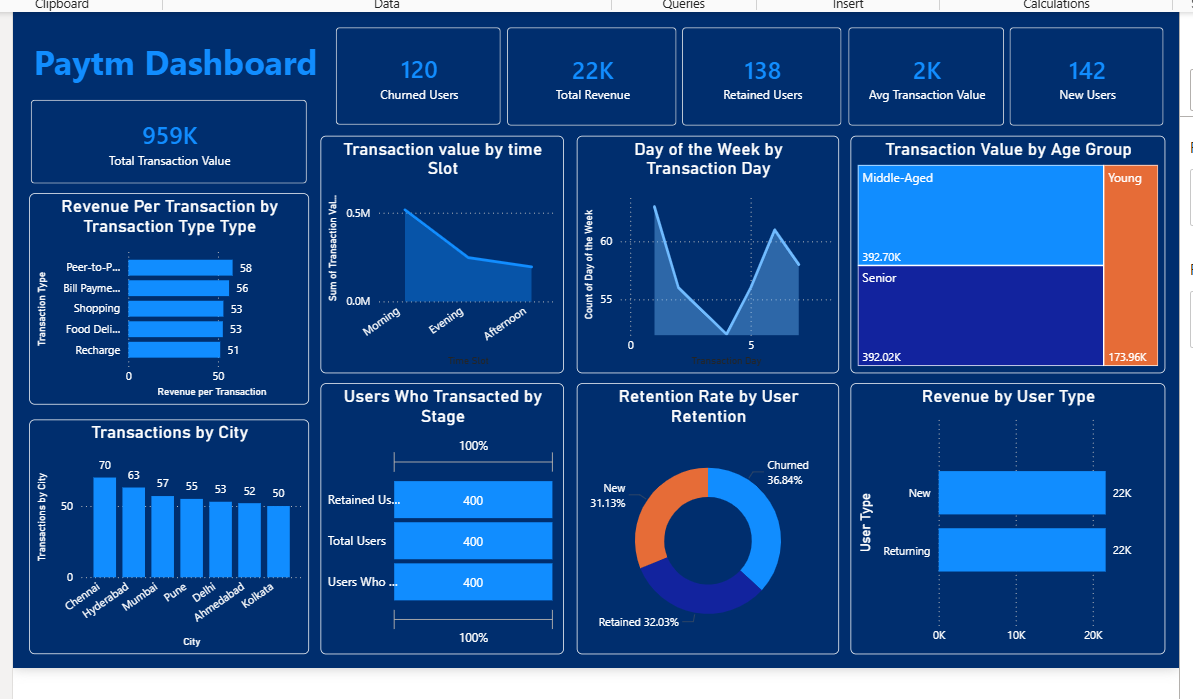

What the dashboard file says about the page in this screenshot:
{"tool":"powerbi","page":{"name":"Page 1","canvas":[1280,720],"ordinal":0},"visuals":[{"type":"cardVisual","fields":{"Data":["paytm.Total Revenue"]},"box":[524.9,0,220.9,142.7],"z":0},{"type":"cardVisual","fields":{"Data":["paytm.Retained Users"]},"box":[717.7,0,209.9,142.7],"z":1001},{"type":"cardVisual","fields":{"Data":["paytm.New Users"]},"box":[1076.9,0,203.1,142.7],"z":1002},{"type":"cardVisual","fields":{"Data":["paytm.Avg Transaction Value"]},"box":[899.5,0,205.8,142.7],"z":1004},{"type":"areaChart","title":" Day of the Week by Transaction Day","fields":{"Category":["paytm.Transaction Day"],"Y":["CountNonNull(paytm.Day of the Week)"]},"box":[618.2,135.8,288.2,260.7],"z":1005},{"type":"cardVisual","fields":{"Data":["paytm.Total Transaction Value"]},"box":[2.7,79.6,337.6,126.2],"z":1006},{"type":"cardVisual","fields":{"Data":["paytm.Churned Users"]},"box":[337.6,0,215.4,141.3],"z":1007},{"type":"treemap","title":" Transaction Value by Age Group","fields":{"Group":["paytm.Age Group"],"Values":["Sum(paytm.Transaction Value)"]},"box":[919.4,135.8,345.8,260.7],"z":1008},{"type":"funnel","fields":{"Category":["User Funnel.Stage"],"Y":["paytm.Users Who Transacted"]},"box":[337.6,407.5,267.6,297.8],"z":1009},{"type":"donutChart","fields":{"Y":["paytm.Retention Rate"],"Category":["paytm.User Retention"]},"box":[618.2,407.5,288.2,297.8],"z":1010},{"type":"areaChart","title":"Transaction value by time Slot ","fields":{"Category":["paytm.Time Slot"],"Y":["Sum(paytm.Transaction Value)"]},"box":[337.6,135.8,267.6,260.7],"z":1011},{"type":"clusteredBarChart","title":"Revenue by User Type ","fields":{"Category":["paytm.User Type"],"Y":["paytm.Revenue by User Type"]},"box":[919.4,407.5,345.8,297.8],"z":1012},{"type":"columnChart","title":"Transactions by City","fields":{"Category":["paytm.City"],"Y":["paytm.Transactions by City"]},"box":[17.8,447.3,307.4,258],"z":1013},{"type":"clusteredBarChart","title":"Revenue Per Transaction by Transaction Type Type ","fields":{"Category":["paytm.Transaction Type"],"Y":["paytm.Revenue per Transaction"]},"box":[17.8,199,307.4,231.9],"z":1014},{"type":"textbox","box":[17.8,24.7,329.3,63.1],"z":1015}]}

Visuals, with their boxes in screenshot pixels (x1, y1, x2, y2):
cardVisual - paytm.Total Revenue: (495, 16, 698, 147)
cardVisual - paytm.Retained Users: (672, 16, 865, 147)
cardVisual - paytm.New Users: (1002, 16, 1189, 147)
cardVisual - paytm.Avg Transaction Value: (839, 16, 1028, 147)
" Day of the Week by Transaction Day" areaChart: (581, 140, 846, 380)
cardVisual - paytm.Total Transaction Value: (15, 89, 325, 205)
cardVisual - paytm.Churned Users: (323, 16, 521, 145)
" Transaction Value by Age Group" treemap: (857, 140, 1175, 380)
funnel - User Funnel.Stage x paytm.Users Who Transacted: (323, 390, 569, 664)
donutChart - paytm.Retention Rate x paytm.User Retention: (581, 390, 846, 664)
"Transaction value by time Slot " areaChart: (323, 140, 569, 380)
"Revenue by User Type " clusteredBarChart: (857, 390, 1175, 664)
"Transactions by City" columnChart: (29, 427, 311, 664)
"Revenue Per Transaction by Transaction Type Type " clusteredBarChart: (29, 198, 311, 412)
textbox: (29, 38, 331, 96)
